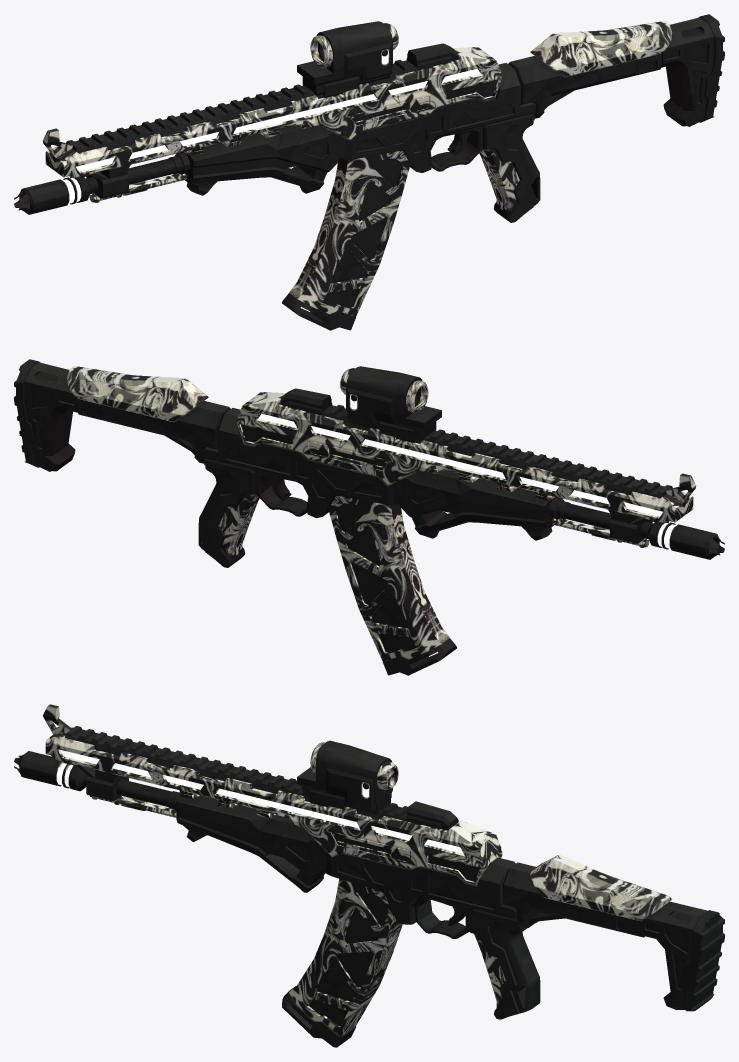
3 renders of one model, top to bottom at view 1: azimuth 30°, elevation 25°; view 2: azimuth 150°, elevation 25°; view 3: azimuth 330°, elevation 25°, orthographic.
Parts seen in each view (by area): view 1: Ar2, Ar2_Magazine; view 2: Ar2, Ar2_Magazine; view 3: Ar2, Ar2_Magazine.
Boxes of the visible parts, x1=… form: Ar2: x1=14, y1=14, x2=724, y2=222; Ar2_Magazine: x1=282, y1=151, x2=410, y2=330; Ar2: x1=14, y1=359, x2=724, y2=567; Ar2_Magazine: x1=328, y1=496, x2=456, y2=675; Ar2: x1=14, y1=704, x2=724, y2=1019; Ar2_Magazine: x1=282, y1=878, x2=402, y2=1047.
Size of the model in its own units: 630 by 254 by 35.12.
